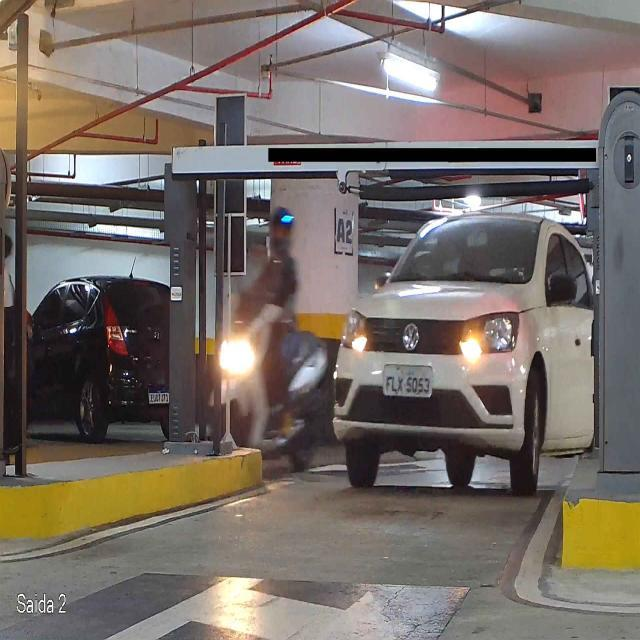old_plate: (380, 362, 436, 400)
